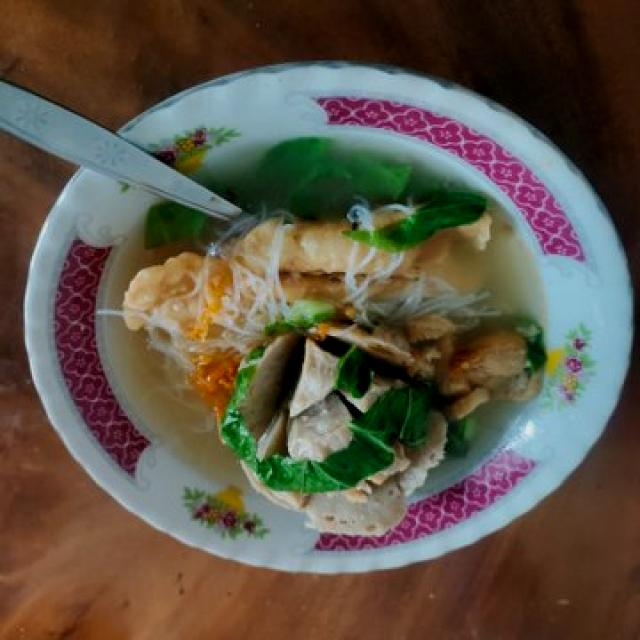bakso: (123, 137, 532, 535)
